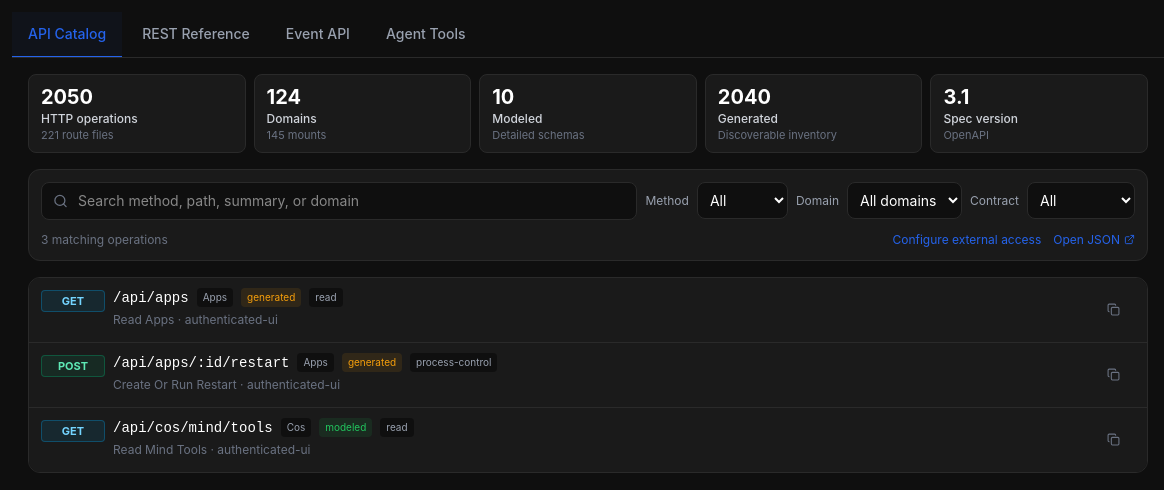
Test: ApiExplorer › renders the searchable generated catalog and coverage counts
The image size is (1164, 490).
Expected: the text "2050" is shown, [41,85,93,109]
Expected: the text "/api/cos/mind/tools" is shown, [113,418,273,438]
Type "restart" into the field with placeholder "Search method, path, summary, or domain".
click(339, 200); type("restart")  # box [41,182,638,220]
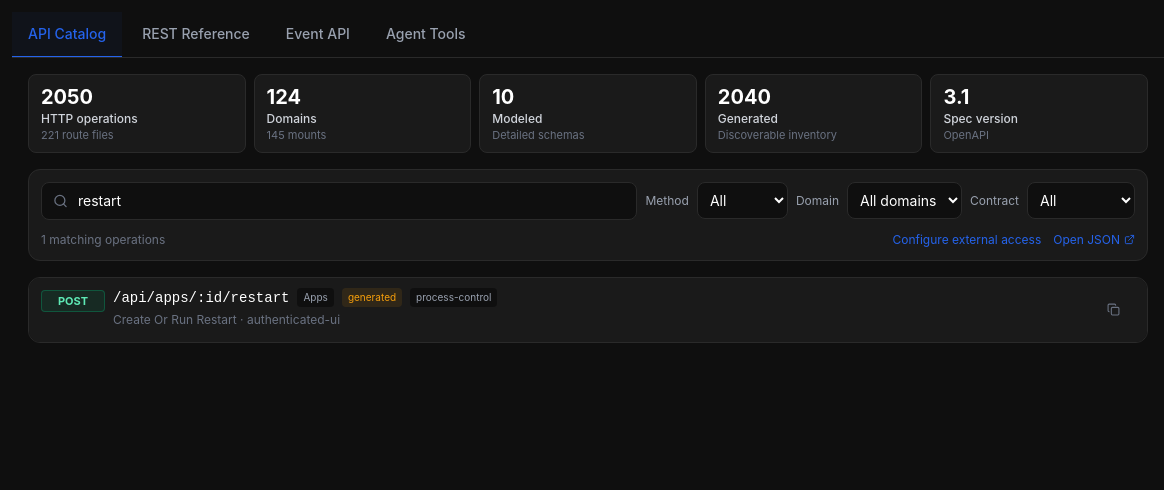
Expected: the text "/api/apps/:id/restart" is shown, [113,288,289,308]
Now the text "/api/cos/mind/tools" is gone
